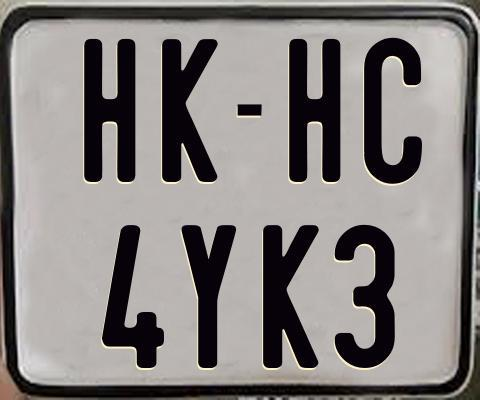3: (333, 223, 396, 368)
4: (100, 225, 162, 371)
C: (361, 37, 425, 189)
H: (286, 39, 343, 188), (81, 36, 137, 185)
K: (262, 222, 320, 370), (160, 37, 218, 184)
Y: (178, 224, 235, 371)
